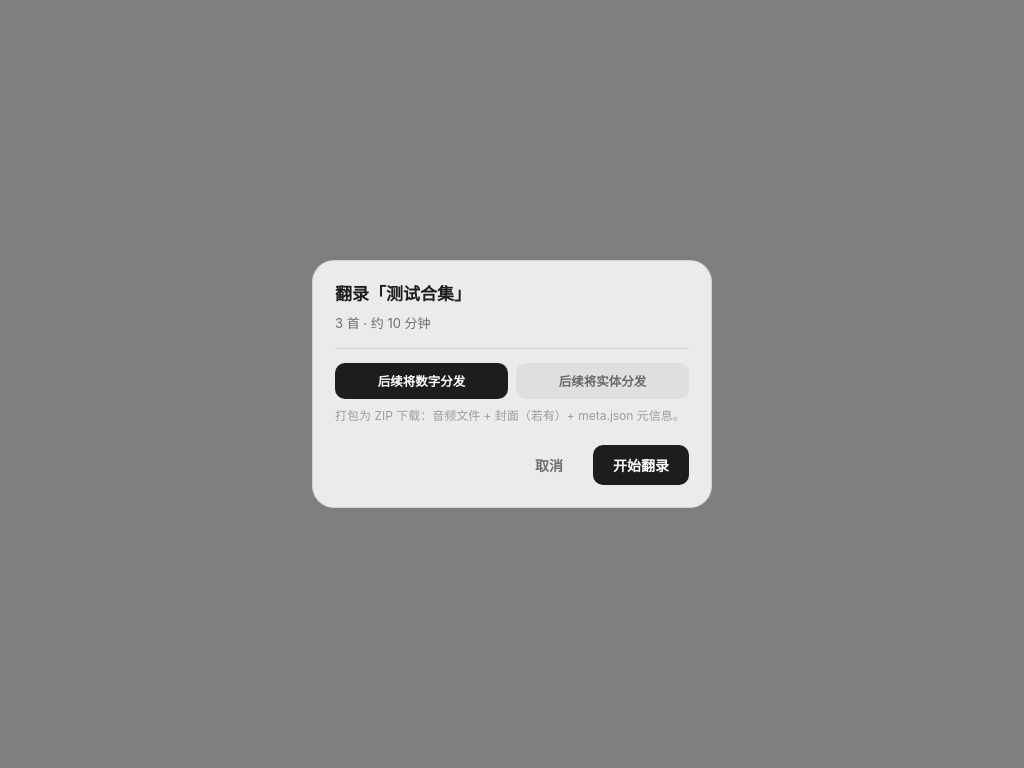
RipDialog › ffmpeg 缺失：音频 CD 禁用并给原因
Click the radio button with test id "rip-dist-physical" at [602, 381], box [516,363,689,399]
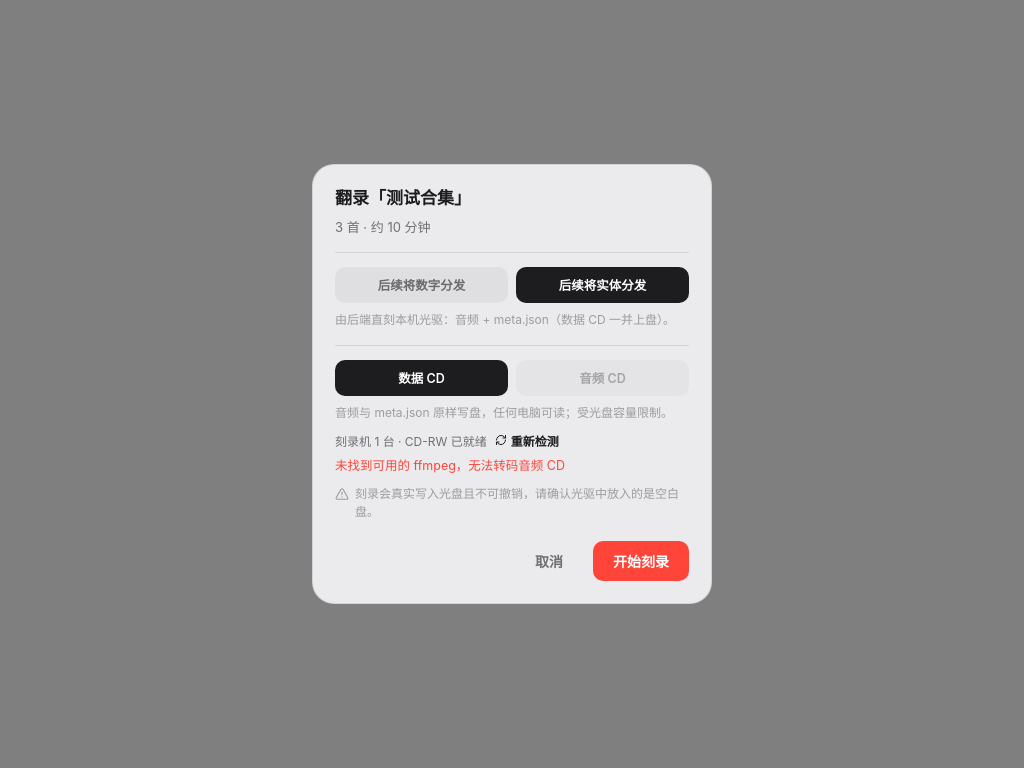
Result: the element with test id "rip-caps" shows "刻录机 1 台" at [335,434,487,448]
Result: the radio button with test id "rip-disc-audio" is disabled at [516,360,689,396]
Result: the text with test id "rip-audio-reason" shows "ffmpeg" at [335,458,565,472]
